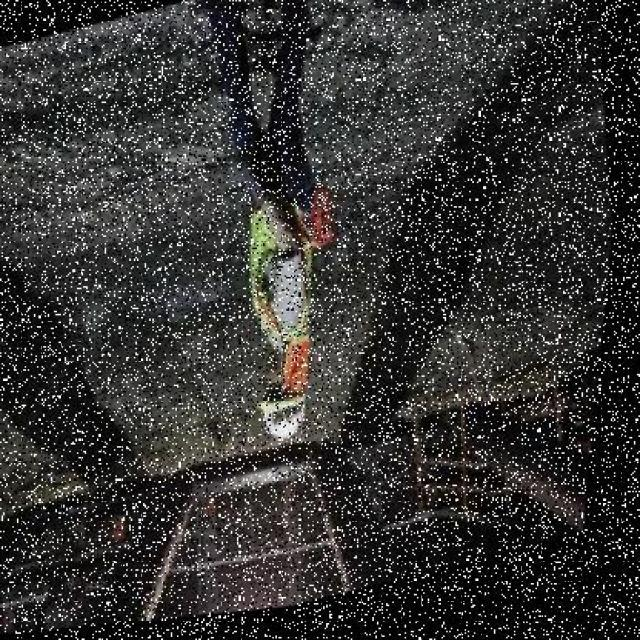helmet: (248, 377, 324, 456)
